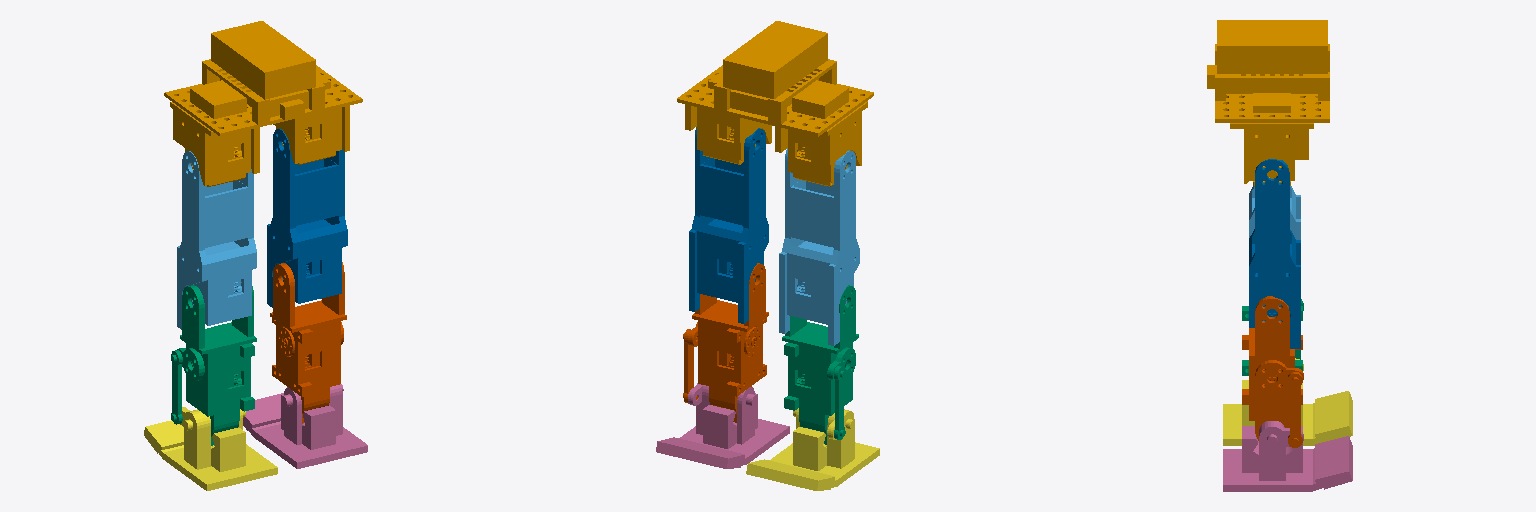
URDF robot description (moonwalk_mini_ptfe):
<?xml version="1.0"?>
<!-- Generated by cad/build.py — do not edit. Foot variant: ptfe. Total mass 374.4 g. Units: m, kg, kg·m², rad. -->
<robot name="moonwalk_mini_ptfe">
  <link name="base_link">
    <inertial>
      <origin xyz="-0.000752311 -0.000186166 0.0276769" rpy="0 0 0"/>
      <mass value="0.148875"/>
      <inertia ixx="6.85301e-05" ixy="2.08506e-08" ixz="1.04419e-06" iyy="0.00012395" iyz="1.38398e-07" izz="9.49926e-05"/>
    </inertial>
    <visual>
      <origin xyz="0 0 0" rpy="0 0 0"/>
      <geometry><mesh filename="meshes/base_link.stl" scale="0.001 0.001 0.001"/></geometry>
    </visual>
    <collision name="base_link_body">
      <origin xyz="0 0 0.01145" rpy="0 0 0"/>
      <geometry><box size="0.088 0.02 0.0309"/></geometry>
    </collision>
    <collision name="base_link_tray">
      <origin xyz="0 0 0.03595" rpy="0 0 0"/>
      <geometry><box size="0.086 0.042 0.0181"/></geometry>
    </collision>
    <collision name="base_link_battery">
      <origin xyz="0 0 0.053" rpy="0 0 0"/>
      <geometry><box size="0.032 0.058 0.016"/></geometry>
    </collision>
  </link>
  <link name="L_thigh">
    <inertial>
      <origin xyz="-3.1717e-05 0.000413886 -0.0573372" rpy="0 0 0"/>
      <mass value="0.0441085"/>
      <inertia ixx="2.805e-05" ixy="-5.79022e-10" ixz="-2.07556e-08" iyy="3.01334e-05" iyz="3.77418e-07" izz="5.68791e-06"/>
    </inertial>
    <visual>
      <origin xyz="0 0 0" rpy="0 0 0"/>
      <geometry><mesh filename="meshes/L_thigh.stl" scale="0.001 0.001 0.001"/></geometry>
    </visual>
    <collision name="L_thigh_body">
      <origin xyz="0 0 -0.0525" rpy="0 0 0"/>
      <geometry><box size="0.032 0.0228 0.072"/></geometry>
    </collision>
  </link>
  <link name="L_shank">
    <inertial>
      <origin xyz="-0.000366964 0.000478842 -0.0429678" rpy="0 0 0"/>
      <mass value="0.044157"/>
      <inertia ixx="1.69101e-05" ixy="3.71902e-07" ixz="-2.08975e-07" iyy="1.86269e-05" iyz="1.80009e-07" izz="5.02995e-06"/>
    </inertial>
    <visual>
      <origin xyz="0 0 0" rpy="0 0 0"/>
      <geometry><mesh filename="meshes/L_shank.stl" scale="0.001 0.001 0.001"/></geometry>
    </visual>
    <collision name="L_shank_body">
      <origin xyz="0 0 -0.04365" rpy="0 0 0"/>
      <geometry><box size="0.0246 0.022 0.0373"/></geometry>
    </collision>
  </link>
  <link name="L_foot">
    <inertial>
      <origin xyz="-0.00131951 0.00538843 -0.0175804" rpy="0 0 0"/>
      <mass value="0.024502"/>
      <inertia ixx="8.33875e-06" ixy="-1.13537e-07" ixz="3.23318e-07" iyy="5.15232e-06" iyz="4.0988e-07" izz="8.9921e-06"/>
    </inertial>
    <visual>
      <origin xyz="0 0 0" rpy="0 0 0"/>
      <geometry><mesh filename="meshes/L_foot_ptfe.stl" scale="0.001 0.001 0.001"/></geometry>
    </visual>
    <collision name="L_foot_toe_pad">
      <origin xyz="0 0.0340365 -0.0230786" rpy="0.314159 0 0"/>
      <geometry><box size="0.044 0.0157719 0.003"/></geometry>
    </collision>
    <collision name="L_foot_heel">
      <origin xyz="0 -0.02 -0.0265" rpy="0 0 0"/>
      <geometry><box size="0.044 0.012 0.003"/></geometry>
    </collision>
    <collision name="L_foot_sole">
      <origin xyz="0 0.0035 -0.0265" rpy="0 0 0"/>
      <geometry><box size="0.044 0.035 0.003"/></geometry>
    </collision>
    <collision name="L_foot_body">
      <origin xyz="0 0.001 -0.0085" rpy="0 0 0"/>
      <geometry><box size="0.042 0.05 0.009"/></geometry>
    </collision>
  </link>
  <link name="R_thigh">
    <inertial>
      <origin xyz="3.1717e-05 0.000413886 -0.0573372" rpy="0 0 0"/>
      <mass value="0.0441085"/>
      <inertia ixx="2.805e-05" ixy="5.79022e-10" ixz="2.07556e-08" iyy="3.01334e-05" iyz="3.77418e-07" izz="5.68791e-06"/>
    </inertial>
    <visual>
      <origin xyz="0 0 0" rpy="0 0 0"/>
      <geometry><mesh filename="meshes/R_thigh.stl" scale="0.001 0.001 0.001"/></geometry>
    </visual>
    <collision name="R_thigh_body">
      <origin xyz="-0 0 -0.0525" rpy="0 0 0"/>
      <geometry><box size="0.032 0.0228 0.072"/></geometry>
    </collision>
  </link>
  <link name="R_shank">
    <inertial>
      <origin xyz="0.000366964 0.000478842 -0.0429678" rpy="0 0 0"/>
      <mass value="0.044157"/>
      <inertia ixx="1.69101e-05" ixy="-3.71902e-07" ixz="2.08975e-07" iyy="1.86269e-05" iyz="1.80009e-07" izz="5.02995e-06"/>
    </inertial>
    <visual>
      <origin xyz="0 0 0" rpy="0 0 0"/>
      <geometry><mesh filename="meshes/R_shank.stl" scale="0.001 0.001 0.001"/></geometry>
    </visual>
    <collision name="R_shank_body">
      <origin xyz="-0 0 -0.04365" rpy="0 0 0"/>
      <geometry><box size="0.0246 0.022 0.0373"/></geometry>
    </collision>
  </link>
  <link name="R_foot">
    <inertial>
      <origin xyz="0.00131951 0.00538843 -0.0175804" rpy="0 0 0"/>
      <mass value="0.024502"/>
      <inertia ixx="8.33875e-06" ixy="1.13537e-07" ixz="-3.23318e-07" iyy="5.15232e-06" iyz="4.0988e-07" izz="8.9921e-06"/>
    </inertial>
    <visual>
      <origin xyz="0 0 0" rpy="0 0 0"/>
      <geometry><mesh filename="meshes/R_foot_ptfe.stl" scale="0.001 0.001 0.001"/></geometry>
    </visual>
    <collision name="R_foot_toe_pad">
      <origin xyz="-0 0.0340365 -0.0230786" rpy="0.314159 0 0"/>
      <geometry><box size="0.044 0.0157719 0.003"/></geometry>
    </collision>
    <collision name="R_foot_heel">
      <origin xyz="-0 -0.02 -0.0265" rpy="0 0 0"/>
      <geometry><box size="0.044 0.012 0.003"/></geometry>
    </collision>
    <collision name="R_foot_sole">
      <origin xyz="-0 0.0035 -0.0265" rpy="0 0 0"/>
      <geometry><box size="0.044 0.035 0.003"/></geometry>
    </collision>
    <collision name="R_foot_body">
      <origin xyz="-0 0.001 -0.0085" rpy="0 0 0"/>
      <geometry><box size="0.042 0.05 0.009"/></geometry>
    </collision>
  </link>
  <joint name="L_hip_pitch" type="revolute">
    <parent link="base_link"/>
    <child link="L_thigh"/>
    <origin xyz="-0.028 0 0" rpy="0 0 0"/>
    <axis xyz="1 0 0"/>
    <limit lower="-0.523599" upper="1.5708" effort="0.88" velocity="7.64"/>
  </joint>
  <joint name="L_knee_pitch" type="revolute">
    <parent link="L_thigh"/>
    <child link="L_shank"/>
    <origin xyz="0 0 -0.08" rpy="0 0 0"/>
    <axis xyz="-1 0 0"/>
    <limit lower="0" upper="2.0944" effort="0.88" velocity="7.64"/>
  </joint>
  <joint name="L_ankle_pitch" type="revolute">
    <parent link="L_shank"/>
    <child link="L_foot"/>
    <origin xyz="0 0 -0.072" rpy="0 0 0"/>
    <axis xyz="1 0 0"/>
    <limit lower="-0.610865" upper="0.523599" effort="0.88" velocity="7.64"/>
  </joint>
  <joint name="R_hip_pitch" type="revolute">
    <parent link="base_link"/>
    <child link="R_thigh"/>
    <origin xyz="0.028 0 0" rpy="0 0 0"/>
    <axis xyz="1 -0 -0"/>
    <limit lower="-0.523599" upper="1.5708" effort="0.88" velocity="7.64"/>
  </joint>
  <joint name="R_knee_pitch" type="revolute">
    <parent link="R_thigh"/>
    <child link="R_shank"/>
    <origin xyz="0 0 -0.08" rpy="0 0 0"/>
    <axis xyz="-1 -0 -0"/>
    <limit lower="0" upper="2.0944" effort="0.88" velocity="7.64"/>
  </joint>
  <joint name="R_ankle_pitch" type="revolute">
    <parent link="R_shank"/>
    <child link="R_foot"/>
    <origin xyz="0 0 -0.072" rpy="0 0 0"/>
    <axis xyz="1 -0 -0"/>
    <limit lower="-0.610865" upper="0.523599" effort="0.88" velocity="7.64"/>
  </joint>
</robot>

--- Render facts (derived) ---
3 views of the same robot in one strip: view 1: azimuth 30°, elevation 25°; view 2: azimuth 150°, elevation 25°; view 3: azimuth 270°, elevation 25° (orthographic).
Robot: moonwalk_mini_ptfe — 7 links, 6 joints (6 revolute); root link base_link; default pose: every joint at zero.
Visible links, largest first — view 1: base_link, R_thigh, L_thigh, L_shank, R_shank, R_foot, L_foot; view 2: base_link, L_thigh, R_thigh, R_shank, L_shank, R_foot, L_foot; view 3: base_link, R_foot, R_thigh, R_shank, L_foot, L_thigh.
Boxes of the visible links, x1=… form: base_link: x1=164, y1=21, x2=362, y2=186; R_thigh: x1=267, y1=129, x2=347, y2=307; L_thigh: x1=177, y1=151, x2=256, y2=329; L_shank: x1=171, y1=285, x2=256, y2=445; R_shank: x1=270, y1=262, x2=346, y2=423; R_foot: x1=243, y1=384, x2=367, y2=468; L_foot: x1=144, y1=407, x2=277, y2=490; base_link: x1=677, y1=21, x2=873, y2=186; L_thigh: x1=779, y1=148, x2=859, y2=345; R_thigh: x1=689, y1=127, x2=768, y2=323; R_shank: x1=683, y1=263, x2=768, y2=422; L_shank: x1=782, y1=285, x2=858, y2=444; R_foot: x1=656, y1=383, x2=789, y2=468; L_foot: x1=746, y1=408, x2=879, y2=490; base_link: x1=1207, y1=20, x2=1329, y2=186; R_foot: x1=1223, y1=421, x2=1352, y2=491; R_thigh: x1=1249, y1=159, x2=1300, y2=348; R_shank: x1=1242, y1=296, x2=1303, y2=447; L_foot: x1=1223, y1=358, x2=1352, y2=445; L_thigh: x1=1249, y1=186, x2=1300, y2=239.
Bounding box of the posed robot: 0.1 × 0.076 × 0.241 m (x, y, z).
7 mesh visuals loaded from 7 distinct referenced files (7 binary STL).
